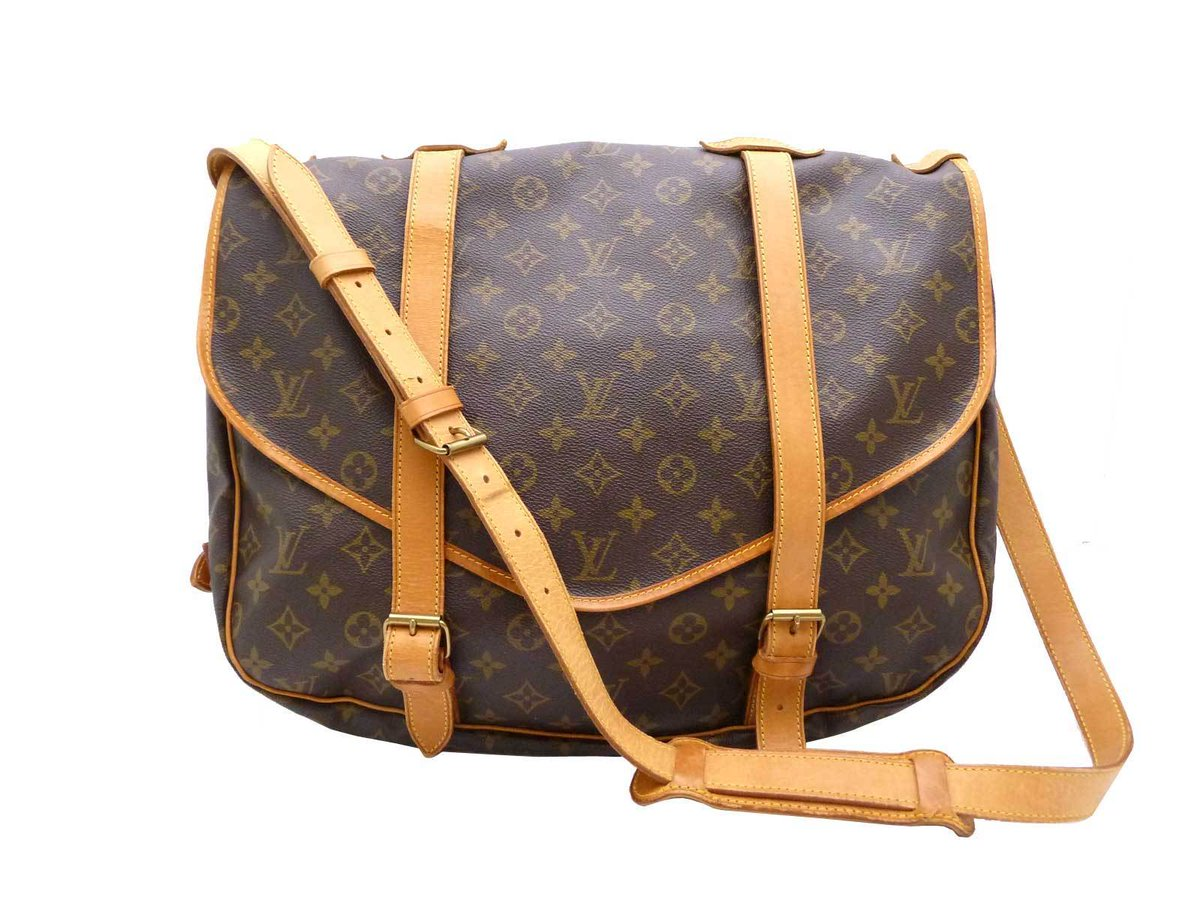LOUIS-VUITTON: (266, 364, 315, 420)
